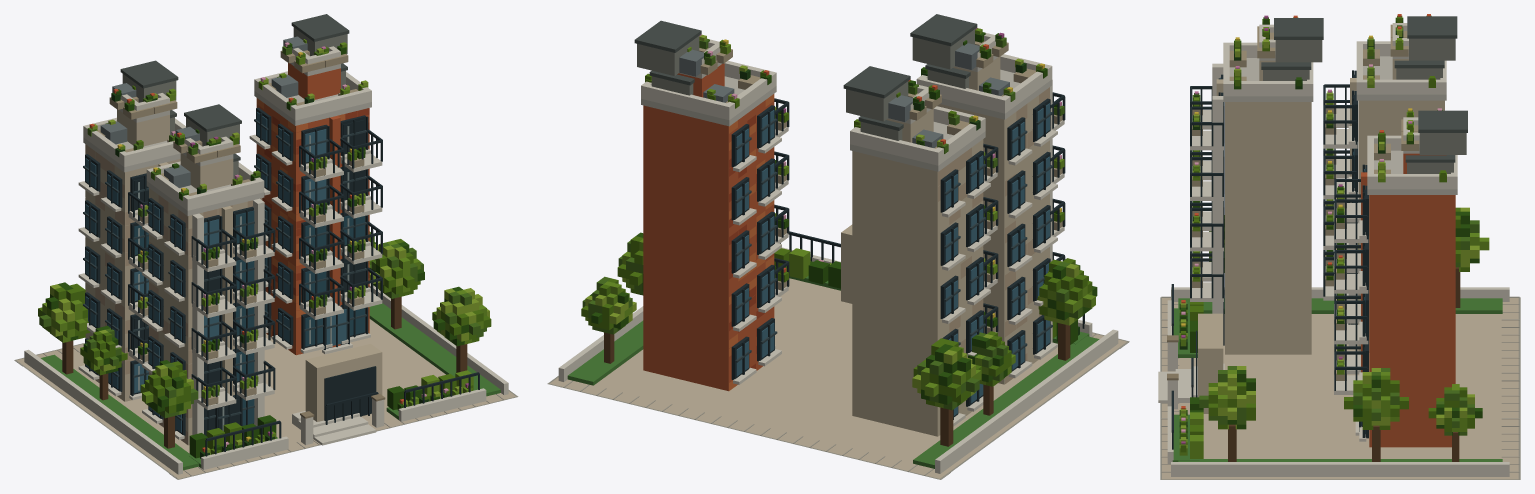
Rendered from SM_Mapa_024.fbx.
3 renders of one model, left to right at view 1: azimuth 30°, elevation 25°; view 2: azimuth 150°, elevation 25°; view 3: azimuth 270°, elevation 25°, orthographic. The views are drawn at different scales.
Visible parts, largest first — view 1: SM_Mapa_024; view 2: SM_Mapa_024; view 3: SM_Mapa_024.
Boxes of the visible parts, x1,y1,x2,y2 form: SM_Mapa_024: (14,14,518,479); SM_Mapa_024: (547,14,1129,479); SM_Mapa_024: (1158,14,1520,479).
Size of the model in its own units: 32 by 26.47 by 26.
